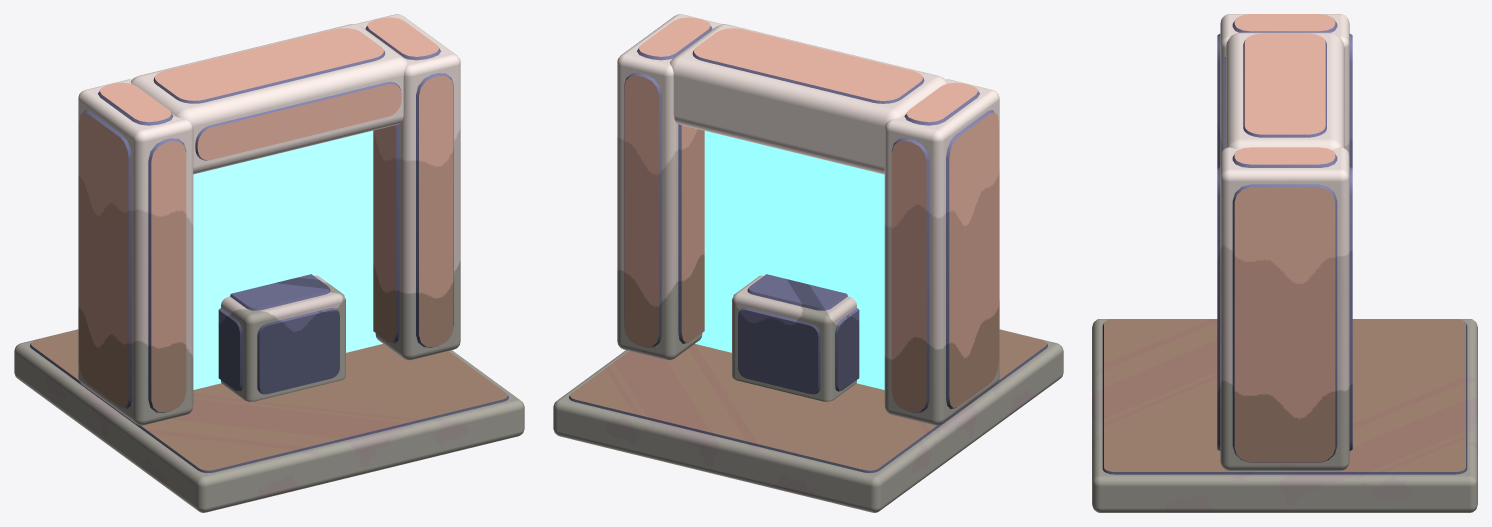
Rendered from R4X_StructuralScanner.glb.
The picture shows the model from 3 angles, left to right: view 1: azimuth 30°, elevation 25°; view 2: azimuth 150°, elevation 25°; view 3: azimuth 270°, elevation 25°; orthographic projection. The views are drawn at different scales.
Visible parts, largest first — view 1: R4X_StructuralScanner_Body; view 2: R4X_StructuralScanner_Body; view 3: R4X_StructuralScanner_Body.
Part boxes in pixels (left/top/right/bottom): R4X_StructuralScanner_Body: left=14, top=14, right=524, bottom=512; R4X_StructuralScanner_Body: left=553, top=14, right=1063, bottom=512; R4X_StructuralScanner_Body: left=1092, top=14, right=1477, bottom=512.
Size of the model in its own units: 0.52 by 0.5178 by 0.514.
4 materials, 3 textured.
